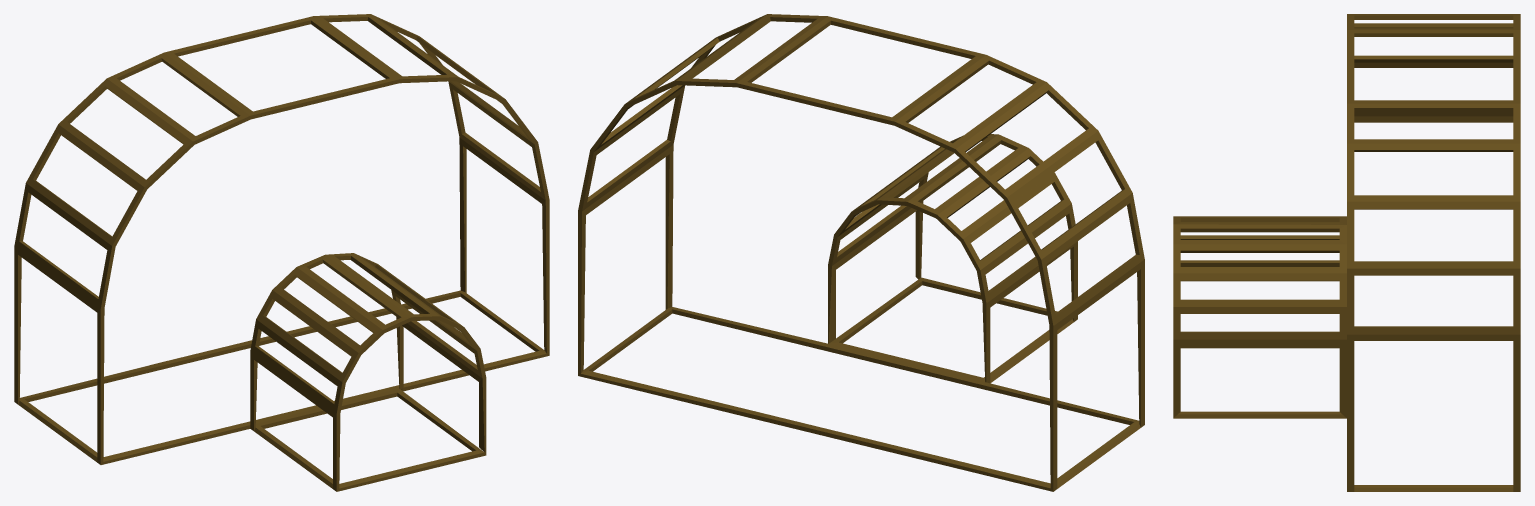
File: single_frame_front_end.glb
The picture shows the model from 3 angles, left to right: view 1: azimuth 30°, elevation 25°; view 2: azimuth 150°, elevation 25°; view 3: azimuth 270°, elevation 25°; orthographic projection. The views are drawn at different scales.
Parts seen in each view (by area): view 1: Single_frame_front_end; view 2: Single_frame_front_end; view 3: Single_frame_front_end.
Boxes of the visible parts, box(x1,y1,x2,y2) form: Single_frame_front_end: box(14, 14, 549, 491); Single_frame_front_end: box(578, 14, 1144, 491); Single_frame_front_end: box(1173, 14, 1520, 491).
Bounding box in the file's own units: 6 × 4 × 4.
